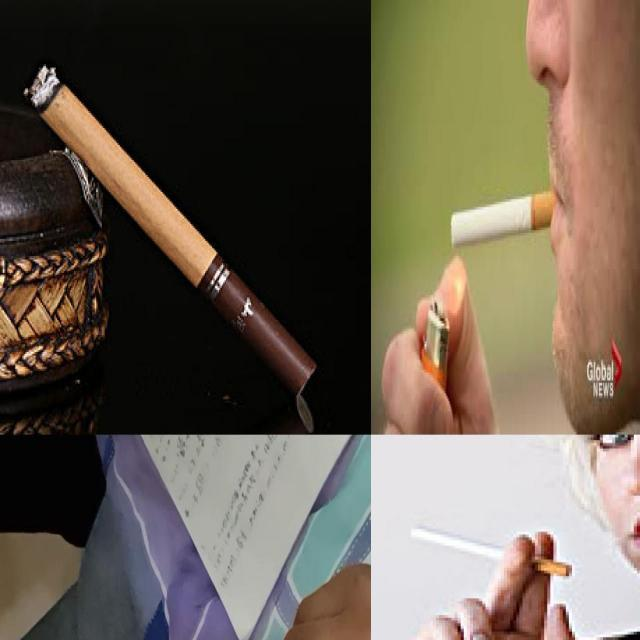cigarette: (18, 58, 316, 392), (410, 526, 573, 577), (451, 190, 561, 252)
